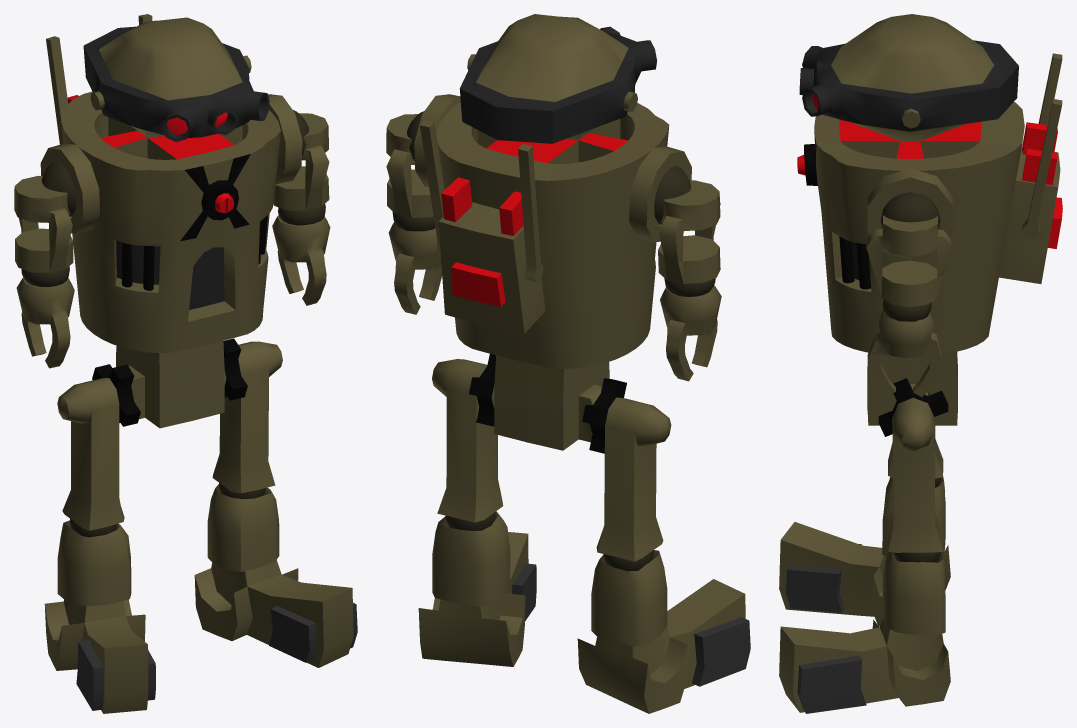
File: bottype3broken.fbx
The picture shows the model from 3 angles, left to right: view 1: azimuth 30°, elevation 25°; view 2: azimuth 150°, elevation 25°; view 3: azimuth 270°, elevation 25°; orthographic projection. The views are drawn at different scales.
Parts seen in each view (by area): view 1: Cylinder, Cylinder.006, Cylinder.002, Cylinder.008, Cylinder.004, Cylinder.007, Cylinder.010, Cylinder.009, Cylinder.005, Cylinder.001, Cylinder.003, Sphere.005 (+2 smaller); view 2: Cylinder, Cylinder.002, Cylinder.008, Cylinder.003, Cylinder.006, Cylinder.004, Cylinder.007, Cylinder.010, Cylinder.009, Cylinder.005, Cylinder.001, Sphere.005 (+2 smaller); view 3: Cylinder, Cylinder.002, Cylinder.006, Cylinder.008, Cylinder.003, Cylinder.007, Cylinder.001, Cylinder.005, Sphere, Sphere.001.
Boxes of the visible parts, x1,y1,x2,y2 form: Cylinder: [40, 91, 302, 428]; Cylinder.006: [194, 484, 357, 667]; Cylinder.002: [83, 17, 269, 142]; Cylinder.008: [44, 520, 155, 713]; Cylinder.004: [57, 378, 124, 530]; Cylinder.007: [212, 341, 282, 493]; Cylinder.010: [14, 175, 73, 272]; Cylinder.009: [16, 277, 74, 368]; Cylinder.005: [272, 215, 330, 305]; Cylinder.001: [273, 113, 329, 210]; Cylinder.003: [46, 14, 152, 144]; Sphere.005: [41, 161, 75, 216]; Cylinder: [414, 94, 691, 453]; Cylinder.002: [459, 14, 656, 143]; Cylinder.008: [577, 550, 750, 713]; Cylinder.003: [420, 120, 545, 333]; Cylinder.006: [418, 511, 536, 666]; Cylinder.004: [596, 397, 671, 561]; Cylinder.007: [432, 359, 503, 522]; Cylinder.010: [658, 180, 720, 283]; Cylinder.009: [660, 285, 721, 381]; Cylinder.005: [388, 222, 442, 314]; Cylinder.001: [386, 114, 433, 217]; Sphere.005: [654, 166, 690, 224]; Cylinder: [797, 102, 1024, 443]; Cylinder.002: [799, 14, 1018, 141]; Cylinder.006: [779, 552, 950, 713]; Cylinder.008: [779, 476, 950, 626]; Cylinder.003: [999, 53, 1062, 283]; Cylinder.007: [888, 398, 943, 552]; Cylinder.001: [866, 215, 952, 307]; Cylinder.005: [867, 309, 942, 396]; Sphere: [880, 192, 940, 229]; Sphere.001: [882, 299, 931, 321].
Bounding box in the file's own units: 153 × 291 × 120.
